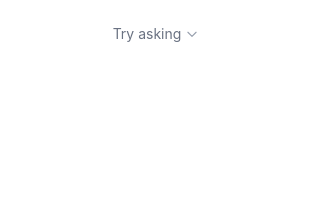
Test case: DashboardSampleQuestions › exposes the same first three suggestions as menu items and chips
Click the button with aria-label "Try asking a sample question" at (156,34), box [105,12,207,56]
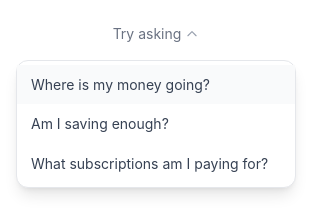
Expected: the menu items read "Where is my money going?", "Am I saving enough?", "What subscriptions am I paying for?", in this order, [17,65,295,104]; [17,104,295,144]; [17,144,295,183]
